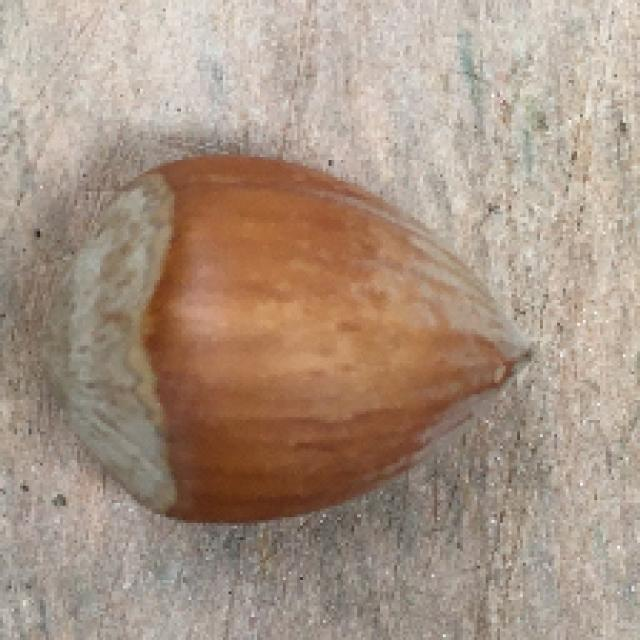QualityHazelnut: (65, 154, 535, 530)
